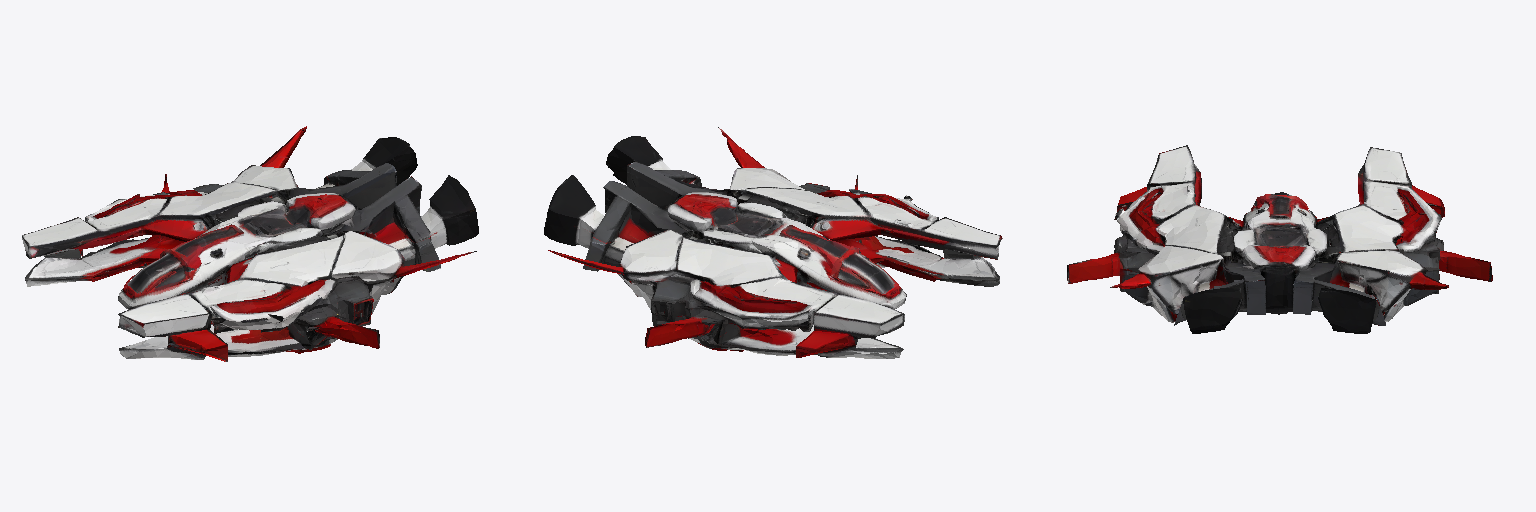
3 views of the same model, side by side, from view 1: azimuth 30°, elevation 25°; view 2: azimuth 150°, elevation 25°; view 3: azimuth 270°, elevation 25° (orthographic).
Parts seen in each view (by area): view 1: Crimson_Vortex_[number redacted]_texture; view 2: Crimson_Vortex_[number redacted]_texture; view 3: Crimson_Vortex_[number redacted]_texture.
Part boxes in pixels (x1,y1,x2,y2): Crimson_Vortex_[number redacted]_texture: (22,126,478,361); Crimson_Vortex_[number redacted]_texture: (544,127,1002,358); Crimson_Vortex_[number redacted]_texture: (1067,145,1492,333).
Size of the model in its own units: 2 by 0.5583 by 2.
Materials: 1 (1 with a texture image).